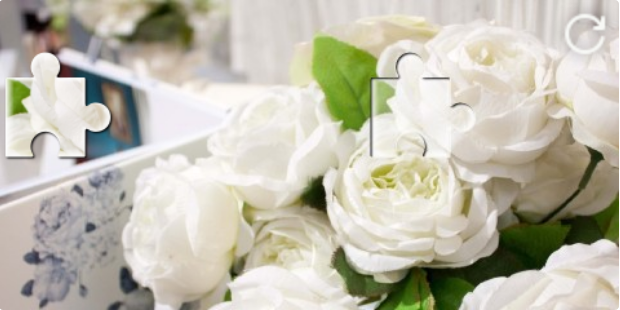target: (370, 51, 473, 157)
